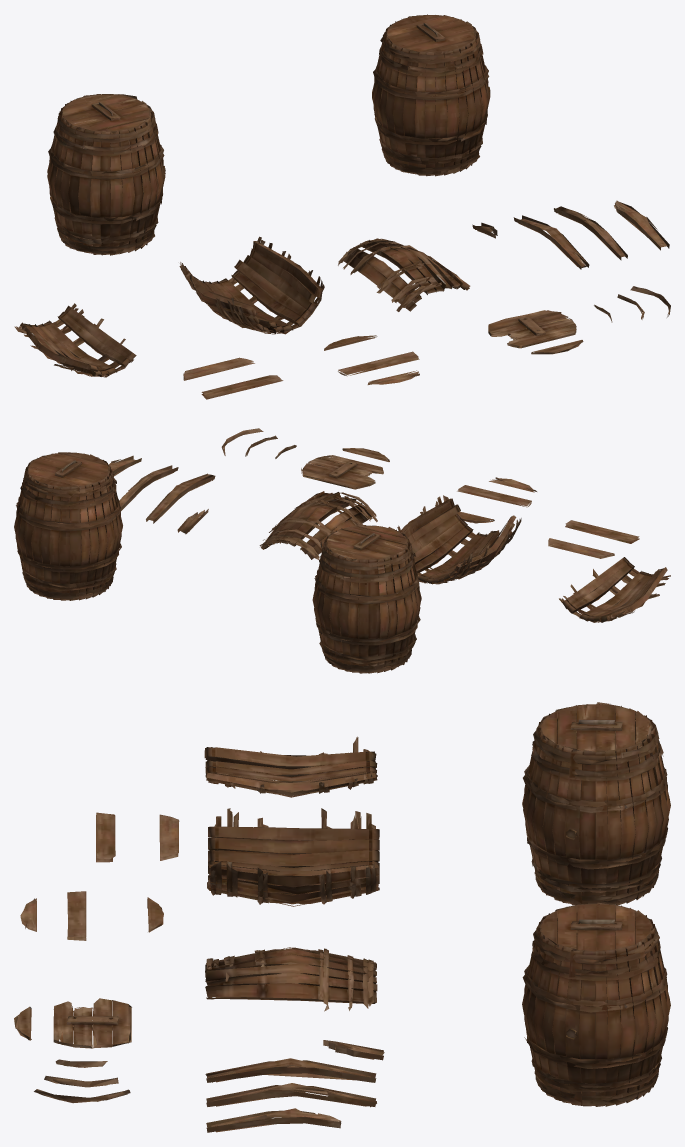
Rendered from wooden_barrels_01.glb.
3 renders of one model, top to bottom at view 1: azimuth 30°, elevation 25°; view 2: azimuth 150°, elevation 25°; view 3: azimuth 270°, elevation 25°, orthographic. The views are drawn at different scales.
Visible parts, largest first — view 1: wooden_barrels_01_barrel02, wooden_barrels_01_barrel01, wooden_barrels_01_piece01, wooden_barrels_01_piece03, wooden_barrels_01_piece02, wooden_barrels_01_piece08, wooden_barrels_01_piece04, wooden_barrels_01_piece05, wooden_barrels_01_piece06, wooden_barrels_01_piece11, wooden_barrels_01_piece14, wooden_barrels_01_piece13; view 2: wooden_barrels_01_barrel02, wooden_barrels_01_barrel01, wooden_barrels_01_piece01, wooden_barrels_01_piece03, wooden_barrels_01_piece02, wooden_barrels_01_piece08, wooden_barrels_01_piece04, wooden_barrels_01_piece14, wooden_barrels_01_piece05, wooden_barrels_01_piece11, wooden_barrels_01_piece13; view 3: wooden_barrels_01_barrel01, wooden_barrels_01_barrel02, wooden_barrels_01_piece01, wooden_barrels_01_piece03, wooden_barrels_01_piece02, wooden_barrels_01_piece08, wooden_barrels_01_piece04, wooden_barrels_01_piece05, wooden_barrels_01_piece06, wooden_barrels_01_piece14, wooden_barrels_01_piece11, wooden_barrels_01_piece13 (+1 smaller).
Part boxes in pixels (x1=…): wooden_barrels_01_barrel02: x1=47, y1=94, x2=165, y2=255; wooden_barrels_01_barrel01: x1=372, y1=14, x2=490, y2=176; wooden_barrels_01_piece01: x1=179, y1=236, x2=324, y2=334; wooden_barrels_01_piece03: x1=338, y1=238, x2=470, y2=311; wooden_barrels_01_piece02: x1=14, y1=303, x2=136, y2=377; wooden_barrels_01_piece08: x1=488, y1=310, x2=576, y2=348; wooden_barrels_01_piece04: x1=513, y1=215, x2=589, y2=269; wooden_barrels_01_piece05: x1=554, y1=206, x2=627, y2=260; wooden_barrels_01_piece06: x1=614, y1=200, x2=669, y2=250; wooden_barrels_01_piece11: x1=338, y1=351, x2=419, y2=376; wooden_barrels_01_piece14: x1=201, y1=375, x2=283, y2=399; wooden_barrels_01_piece13: x1=183, y1=357, x2=254, y2=380; wooden_barrels_01_barrel02: x1=312, y1=524, x2=421, y2=673; wooden_barrels_01_barrel01: x1=14, y1=452, x2=122, y2=600; wooden_barrels_01_piece01: x1=397, y1=495, x2=521, y2=584; wooden_barrels_01_piece03: x1=259, y1=491, x2=377, y2=559; wooden_barrels_01_piece02: x1=559, y1=557, x2=670, y2=622; wooden_barrels_01_piece08: x1=301, y1=455, x2=383, y2=489; wooden_barrels_01_piece04: x1=146, y1=473, x2=215, y2=523; wooden_barrels_01_piece14: x1=565, y1=520, x2=639, y2=543; wooden_barrels_01_piece05: x1=119, y1=465, x2=178, y2=510; wooden_barrels_01_piece11: x1=457, y1=485, x2=531, y2=507; wooden_barrels_01_piece13: x1=548, y1=538, x2=614, y2=558; wooden_barrels_01_barrel01: x1=522, y1=902, x2=670, y2=1106; wooden_barrels_01_barrel02: x1=522, y1=702, x2=670, y2=905; wooden_barrels_01_piece01: x1=207, y1=808, x2=379, y2=906; wooden_barrels_01_piece03: x1=205, y1=947, x2=377, y2=1011; wooden_barrels_01_piece02: x1=204, y1=736, x2=377, y2=797; wooden_barrels_01_piece08: x1=53, y1=998, x2=131, y2=1048; wooden_barrels_01_piece04: x1=205, y1=1058, x2=376, y2=1082; wooden_barrels_01_piece05: x1=206, y1=1083, x2=376, y2=1107; wooden_barrels_01_piece06: x1=206, y1=1108, x2=341, y2=1132; wooden_barrels_01_piece14: x1=96, y1=812, x2=115, y2=862; wooden_barrels_01_piece11: x1=67, y1=891, x2=86, y2=940; wooden_barrels_01_piece13: x1=159, y1=814, x2=179, y2=860.
Size of the model in its own units: 4.44 by 0.9558 by 3.36.
3 materials, 3 textured.
